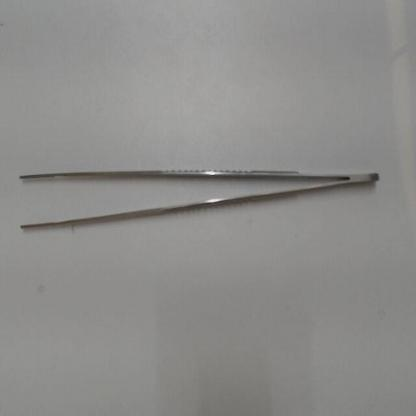DeBakey Dissector: (0, 156, 390, 239)
